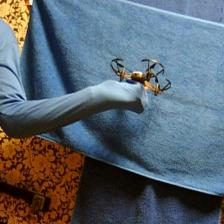drone: (109, 57, 172, 96)
